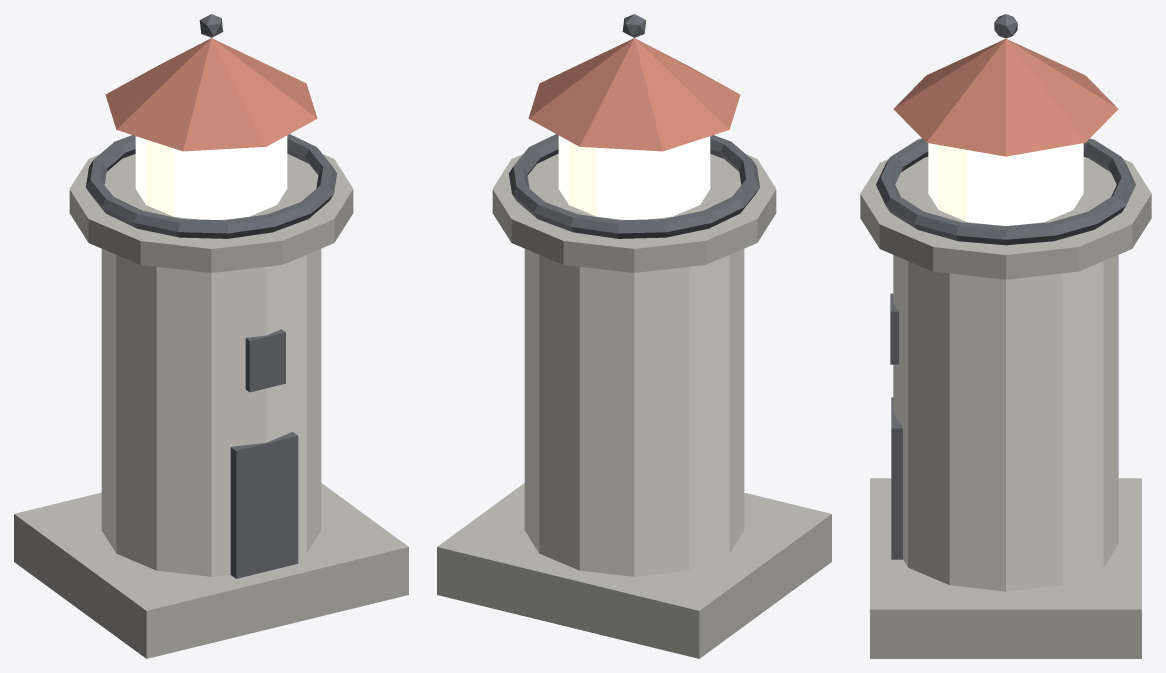
Rendered from LM13_Lighthouse.glb.
3 renders of one model, left to right at view 1: azimuth 30°, elevation 25°; view 2: azimuth 150°, elevation 25°; view 3: azimuth 270°, elevation 25°, orthographic. The views are drawn at different scales.
Visible parts, largest first — view 1: Tower, Base.004, Roof, Gallery, Lamp, Door.001, Rail, Win; view 2: Tower, Base.004, Roof, Gallery, Lamp, Rail; view 3: Tower, Base.004, Roof, Gallery, Lamp, Rail, Door.001, Win, Finial.
Boxes of the visible parts, x1,y1,x2,y2 form: Tower: [101, 249, 321, 576]; Base.004: [14, 483, 408, 658]; Roof: [105, 38, 317, 151]; Gallery: [69, 153, 353, 272]; Lamp: [135, 135, 287, 219]; Door.001: [230, 431, 298, 578]; Rail: [86, 134, 336, 238]; Win: [245, 329, 285, 392]; Tower: [524, 249, 744, 576]; Base.004: [437, 483, 831, 658]; Roof: [528, 38, 740, 151]; Gallery: [492, 153, 776, 272]; Lamp: [558, 135, 710, 219]; Rail: [509, 134, 759, 238]; Tower: [893, 255, 1118, 591]; Base.004: [870, 478, 1141, 658]; Roof: [893, 39, 1118, 156]; Gallery: [860, 157, 1151, 279]; Lamp: [928, 143, 1083, 225]; Rail: [876, 138, 1135, 245]; Door.001: [891, 397, 902, 559]; Win: [890, 293, 898, 364]; Finial: [994, 14, 1017, 38].
Bounding box in the file's own units: 1.6 × 3.29 × 1.5.
